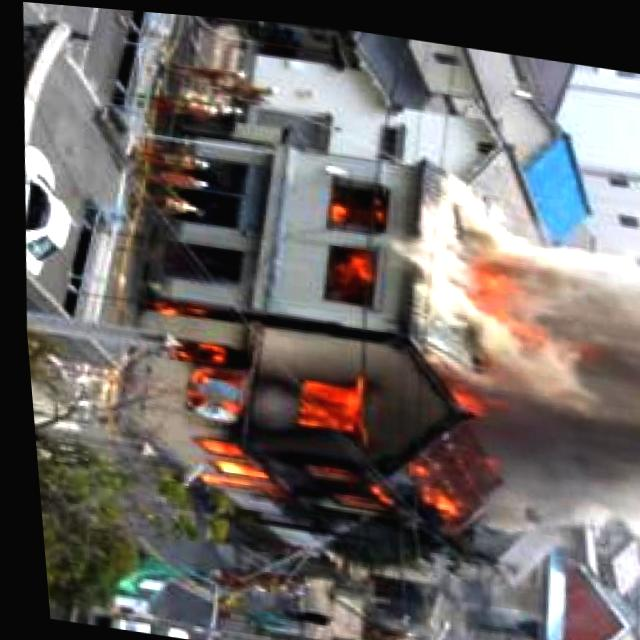Fire: (135, 291, 412, 514), (316, 239, 379, 297)
Smoke: (381, 164, 640, 546)
